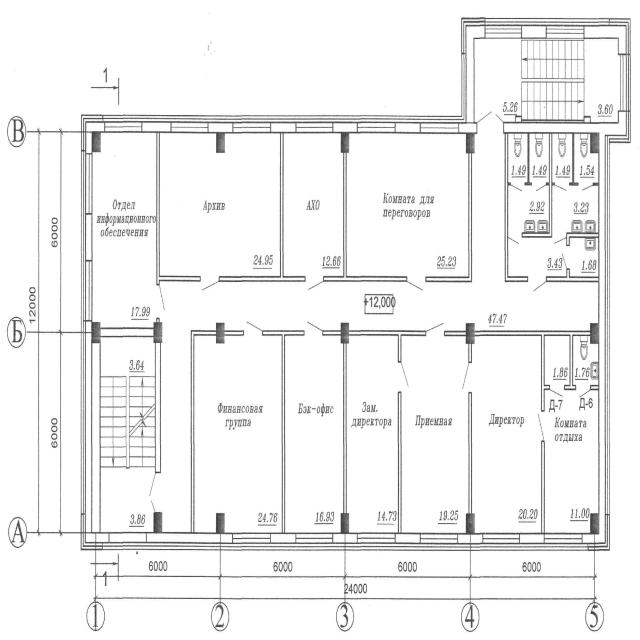Bathrooms: (553, 186, 598, 233), (509, 185, 549, 232), (574, 337, 599, 384), (570, 238, 599, 277), (575, 134, 598, 182), (552, 134, 572, 183), (509, 134, 528, 182), (530, 134, 548, 183)
Corridors: (160, 134, 599, 532), (508, 237, 566, 276), (545, 337, 569, 385)
Doors: (476, 111, 504, 134), (148, 473, 162, 513), (398, 362, 410, 392), (200, 275, 220, 293), (528, 276, 547, 294), (407, 276, 426, 294), (305, 276, 324, 292), (304, 320, 324, 335), (462, 363, 472, 392), (157, 285, 166, 317), (244, 320, 263, 335), (426, 321, 444, 336), (549, 384, 564, 399), (576, 385, 591, 399), (537, 412, 544, 442), (561, 245, 570, 268), (508, 232, 522, 246), (553, 233, 566, 246), (532, 182, 546, 193), (510, 182, 525, 192), (579, 182, 593, 192), (556, 183, 569, 193)
LBwalls: (80, 321, 233, 552), (581, 111, 632, 552), (461, 17, 484, 134), (585, 16, 631, 54), (91, 343, 100, 532), (503, 122, 599, 133), (79, 113, 105, 152), (155, 343, 161, 473), (143, 115, 172, 133), (81, 215, 92, 261), (519, 532, 543, 553), (271, 115, 297, 134), (523, 17, 545, 39), (333, 533, 357, 553), (458, 534, 482, 554), (395, 115, 420, 134), (209, 113, 232, 133), (333, 114, 357, 133), (396, 533, 420, 552), (271, 533, 296, 551), (341, 512, 350, 534), (153, 512, 162, 534), (216, 132, 225, 154), (466, 133, 475, 155), (466, 513, 475, 535), (92, 322, 101, 343), (153, 322, 162, 343), (216, 323, 225, 344), (340, 323, 349, 344), (216, 513, 225, 534), (340, 132, 349, 153), (465, 323, 474, 344), (590, 513, 599, 534), (590, 324, 599, 345), (92, 132, 101, 153), (591, 133, 599, 154), (514, 115, 522, 123), (584, 116, 591, 123)
Offices: (348, 133, 468, 277), (195, 337, 282, 533), (161, 134, 280, 274), (473, 337, 542, 533), (401, 335, 468, 532), (92, 133, 156, 326), (285, 336, 343, 532), (348, 336, 398, 533), (285, 134, 343, 275), (545, 392, 599, 533)
Stairs: (474, 39, 618, 122), (101, 338, 153, 531)
Walls: (219, 133, 306, 282), (323, 153, 407, 282), (474, 330, 590, 412), (261, 330, 305, 534), (156, 132, 201, 286), (425, 153, 473, 282), (191, 330, 216, 533), (505, 132, 528, 283), (522, 133, 555, 238), (349, 329, 426, 362), (546, 268, 599, 282), (569, 133, 579, 186), (100, 327, 153, 337), (343, 344, 346, 513), (524, 134, 532, 187), (398, 392, 401, 533), (566, 233, 599, 245), (541, 441, 545, 533), (469, 392, 472, 513), (444, 330, 466, 336), (225, 330, 244, 336), (323, 330, 341, 336), (468, 343, 472, 363), (591, 385, 599, 391), (593, 182, 599, 186), (156, 318, 160, 323)
Windows: (485, 17, 522, 39), (547, 17, 584, 39), (544, 532, 581, 552), (357, 114, 395, 133), (233, 114, 271, 133), (171, 114, 209, 133), (233, 532, 271, 551), (357, 533, 395, 552), (420, 116, 460, 134), (80, 261, 92, 321), (420, 533, 457, 552), (297, 114, 333, 133), (105, 115, 143, 133), (619, 55, 631, 111), (482, 533, 519, 551), (81, 154, 92, 214), (296, 533, 333, 550)
